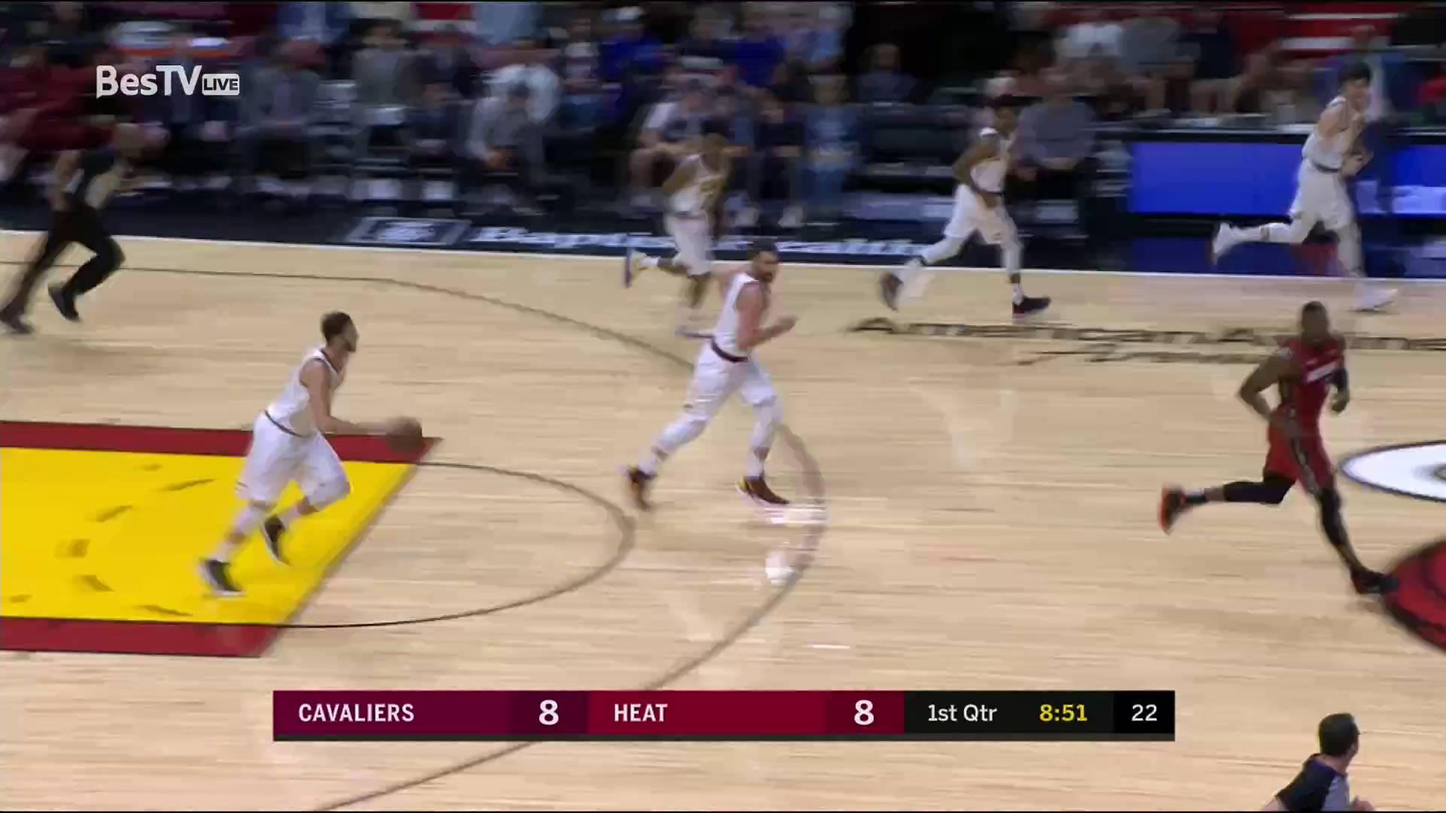basketball: (384, 414, 426, 458)
